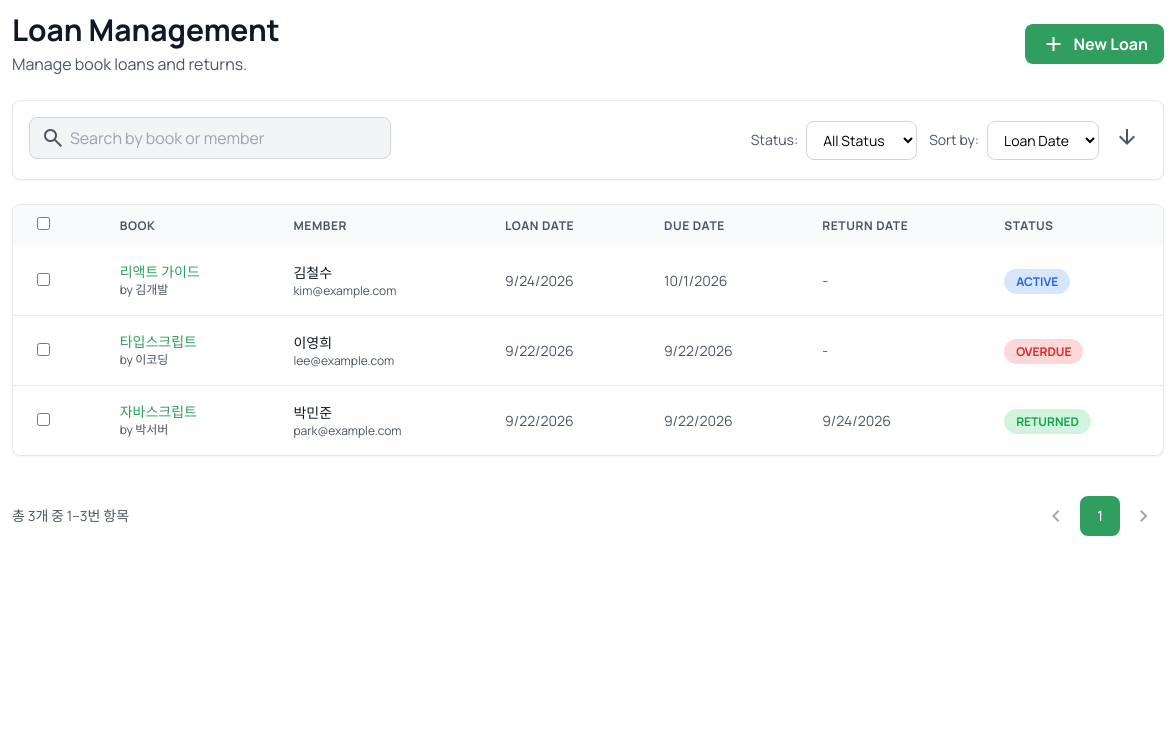
Test: LoanList (Admin) › AL-03: 상태 필터 — ACTIVE만 › ACTIVE 필터 선택 시 ACTIVE 대출만 표시된다
Expected: the text "리액트 가이드" is shown, [120,262,200,282]
# 여러 combobox 중 첫 번째가 Status 필터
Select "Active" in the dropdown next to "Status:": (862, 140) [806,120,917,160]
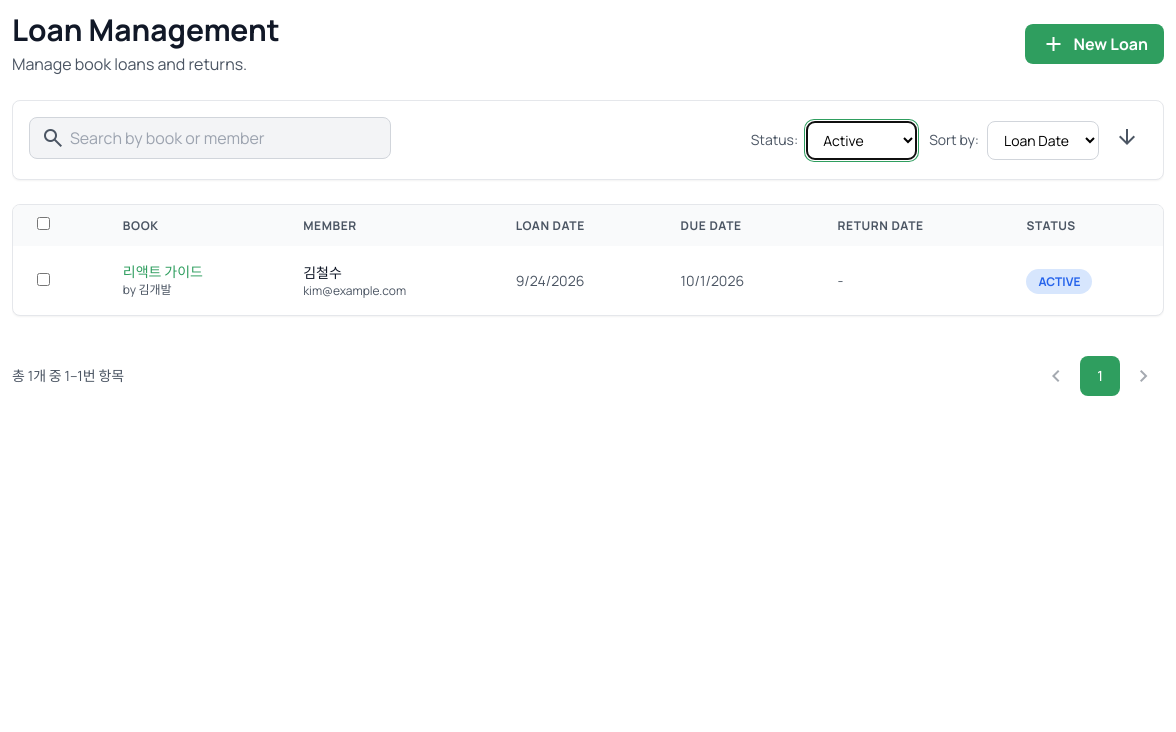
Expected: the text "리액트 가이드" is shown, [123,262,203,282]
Now the button "타입스크립트" is gone
Now the button "자바스크립트" is gone
